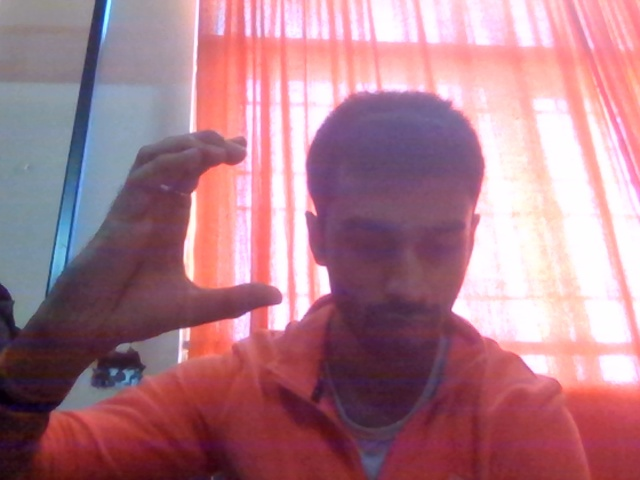C: (8, 110, 296, 417)
